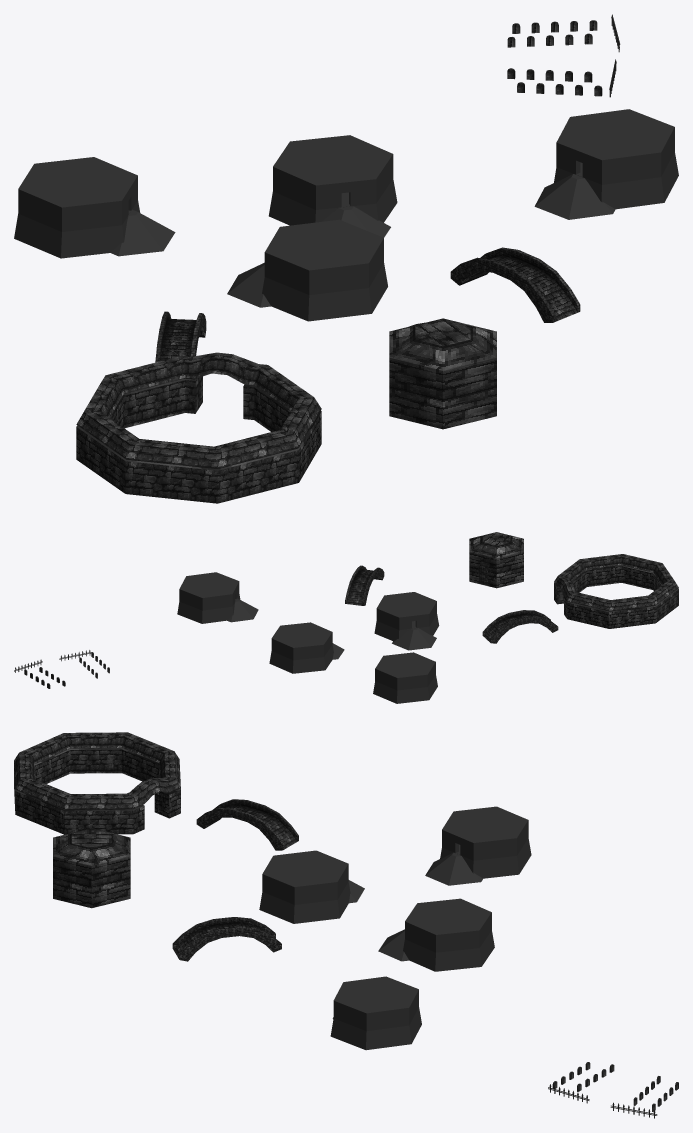
File: hitherton_buildings.glb
3 views of the same model, one above another, from view 1: azimuth 30°, elevation 25°; view 2: azimuth 150°, elevation 25°; view 3: azimuth 270°, elevation 25° (orthographic). The views are drawn at different scales.
Visible parts, largest first — view 1: Arena-col, House Player, House_4-col, House_3-col, shop-col, House_2-col, bridge2-col, bridge-col; view 2: Arena-col, House_4-col, House_3-col, House_2-col, House Player, shop-col, bridge-col, bridge2-col; view 3: Arena-col, House Player, House_2-col, House_3-col, shop-col, House_4-col, bridge2-col, bridge-col.
Boxes of the visible parts, bbox=[...] form: Arena-col: bbox=[76, 352, 321, 503]; House Player: bbox=[14, 157, 175, 258]; House_4-col: bbox=[534, 109, 678, 219]; House_3-col: bbox=[227, 219, 387, 321]; shop-col: bbox=[389, 318, 496, 429]; House_2-col: bbox=[268, 135, 397, 237]; bridge2-col: bbox=[450, 247, 580, 322]; bridge-col: bbox=[155, 311, 206, 362]; Arena-col: bbox=[554, 554, 678, 628]; House_4-col: bbox=[177, 572, 258, 623]; House_3-col: bbox=[374, 592, 439, 650]; House_2-col: bbox=[269, 622, 344, 673]; House Player: bbox=[373, 652, 437, 703]; shop-col: bbox=[469, 532, 523, 588]; bridge-col: bbox=[482, 610, 558, 643]; bridge2-col: bbox=[345, 565, 384, 605]; Arena-col: bbox=[14, 732, 180, 834]; House Player: bbox=[425, 806, 531, 885]; House_2-col: bbox=[378, 898, 494, 971]; House_3-col: bbox=[259, 850, 364, 923]; shop-col: bbox=[53, 828, 130, 908]; House_4-col: bbox=[330, 976, 421, 1050]; bridge2-col: bbox=[172, 917, 281, 961]; bridge-col: bbox=[196, 799, 298, 850].
Size of the model in its own units: 134 by 16.36 by 119.
1 material, 1 textured.
